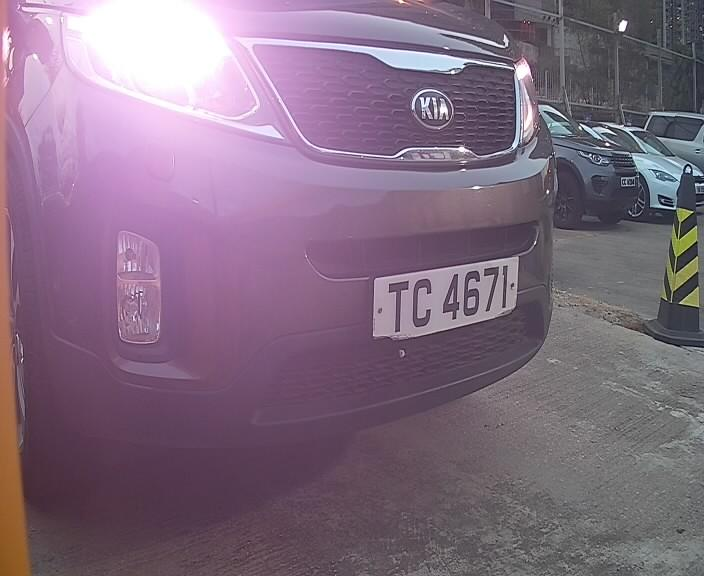License Plate: (359, 250, 525, 345)
